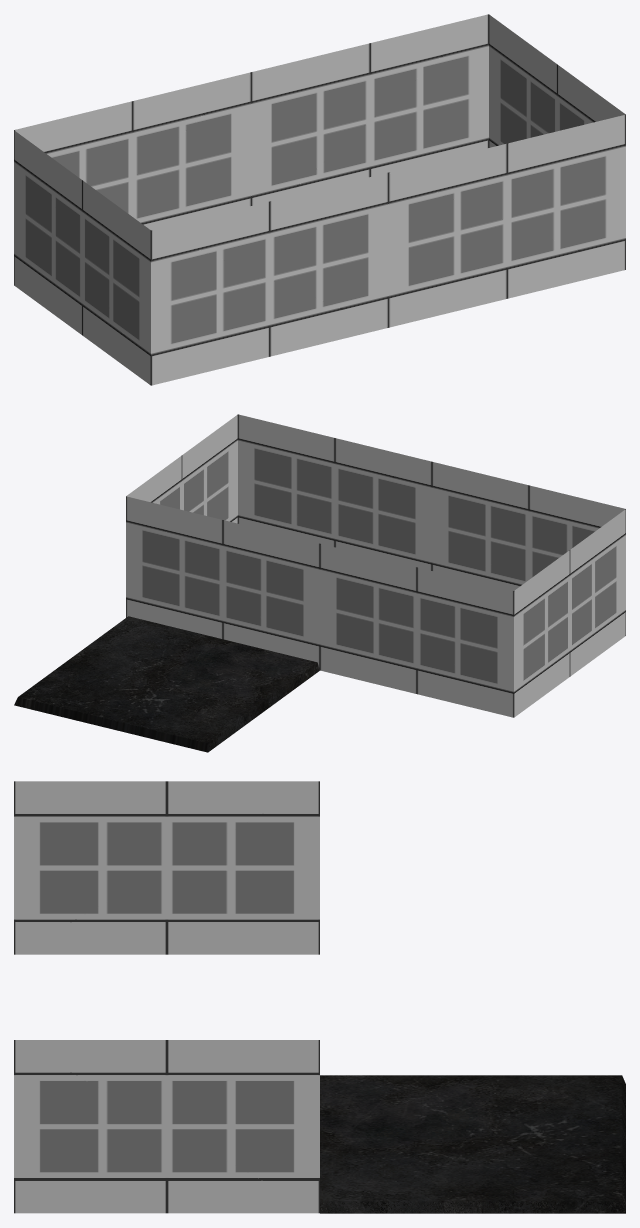
File: highrise_3to2.glb
The picture shows the model from 3 angles, top to bottom: view 1: azimuth 30°, elevation 25°; view 2: azimuth 150°, elevation 25°; view 3: azimuth 270°, elevation 25°; orthographic projection. The views are drawn at different scales.
Parts seen in each view (by area): view 1: Highrise.3to2; view 2: Highrise.3to2; view 3: Highrise.3to2.
Part boxes in pixels (bbox=[...]): Highrise.3to2: bbox=[14, 14, 625, 385]; Highrise.3to2: bbox=[14, 414, 625, 752]; Highrise.3to2: bbox=[14, 781, 625, 1213].
Size of the model in its own units: 0.8 by 0.2503 by 0.8.
Materials: 1 (1 with a texture image).
